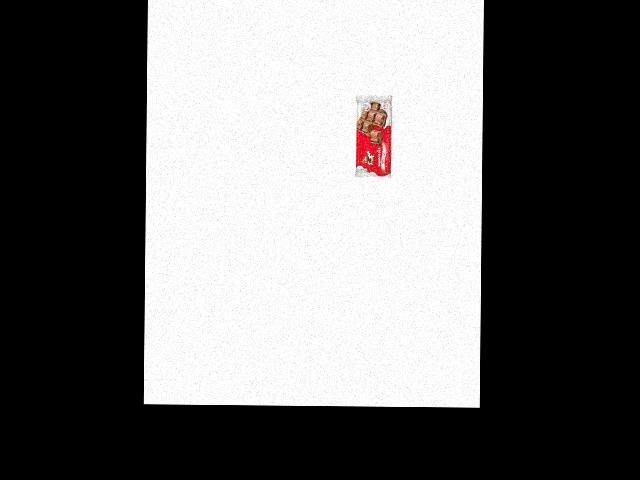chocolate: (354, 92, 392, 178)
